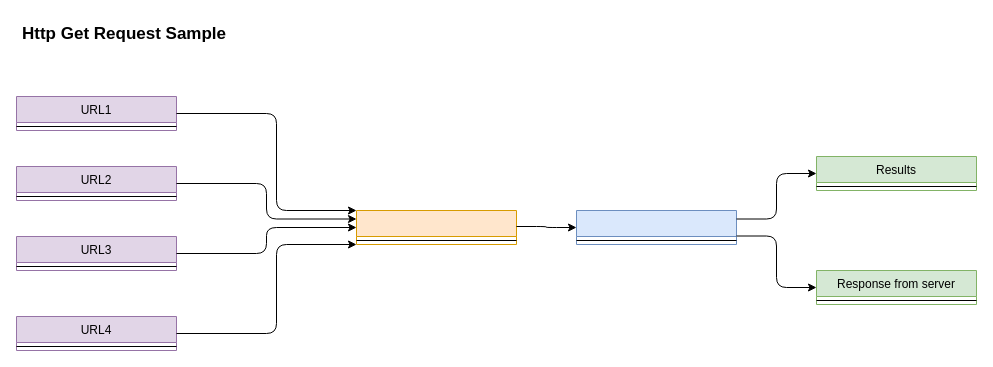
Image size: 993x367. Some labels were removed from this diagram. The shapes that lost their labels are listed below. From the top down, each one's centre as x and y in pixels, then its label:
At point (436, 227): "Selection Method".
At point (656, 227): "HTTP Request (GET)".
